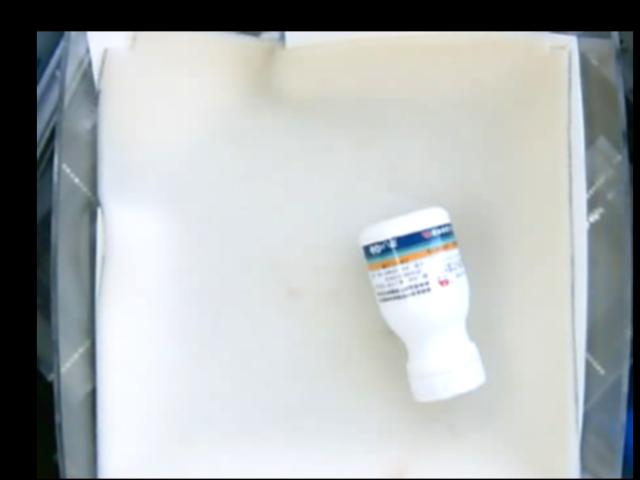Bottle: (361, 208, 485, 399)
